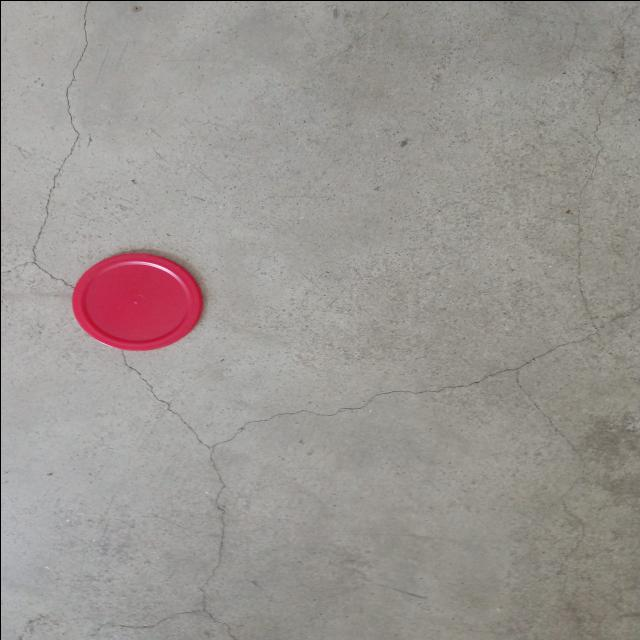chip: (70, 252, 202, 351)
